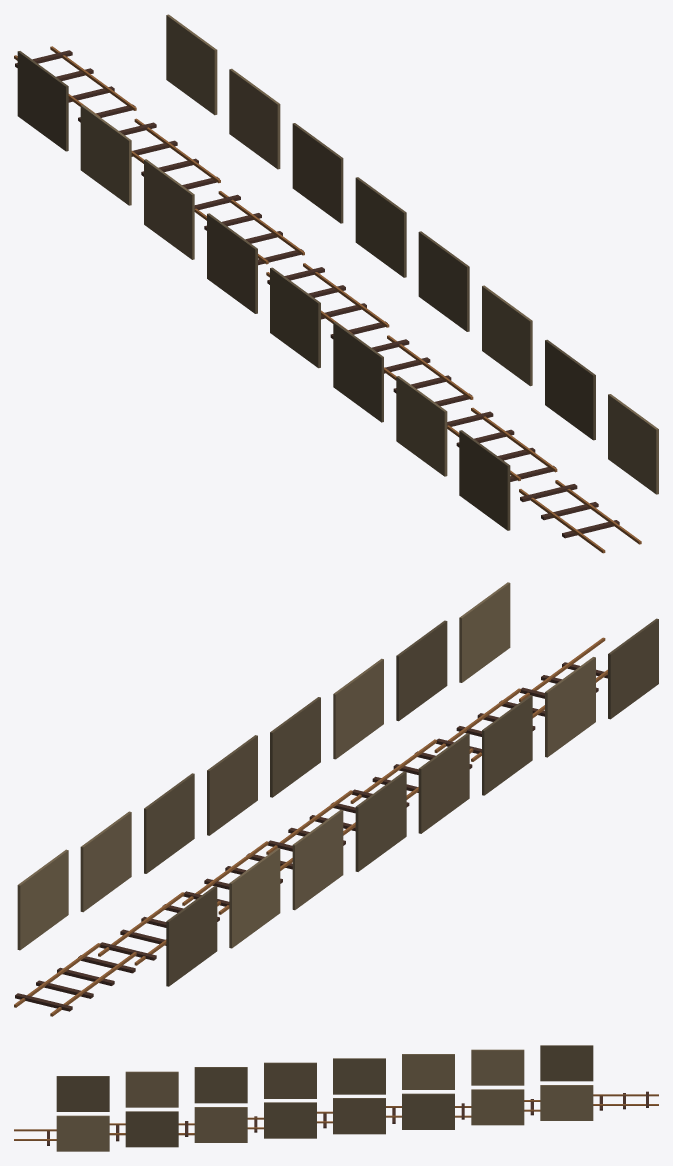
The model's file is adit_mouth_detail1.glb.
The picture shows the model from 3 angles, top to bottom: view 1: azimuth 30°, elevation 25°; view 2: azimuth 150°, elevation 25°; view 3: azimuth 270°, elevation 25°; orthographic projection. The views are drawn at different scales.
Parts seen in each view (by area): view 1: adit_mouth_detail1; view 2: adit_mouth_detail1; view 3: adit_mouth_detail1.
Boxes of the visible parts, left/top/right/bottom form: adit_mouth_detail1: left=14, top=14, right=658, bottom=553; adit_mouth_detail1: left=14, top=582, right=658, bottom=1016; adit_mouth_detail1: left=14, top=1045, right=658, bottom=1151.
Bounding box in the file's own units: 8.3 × 7.01 × 56.
